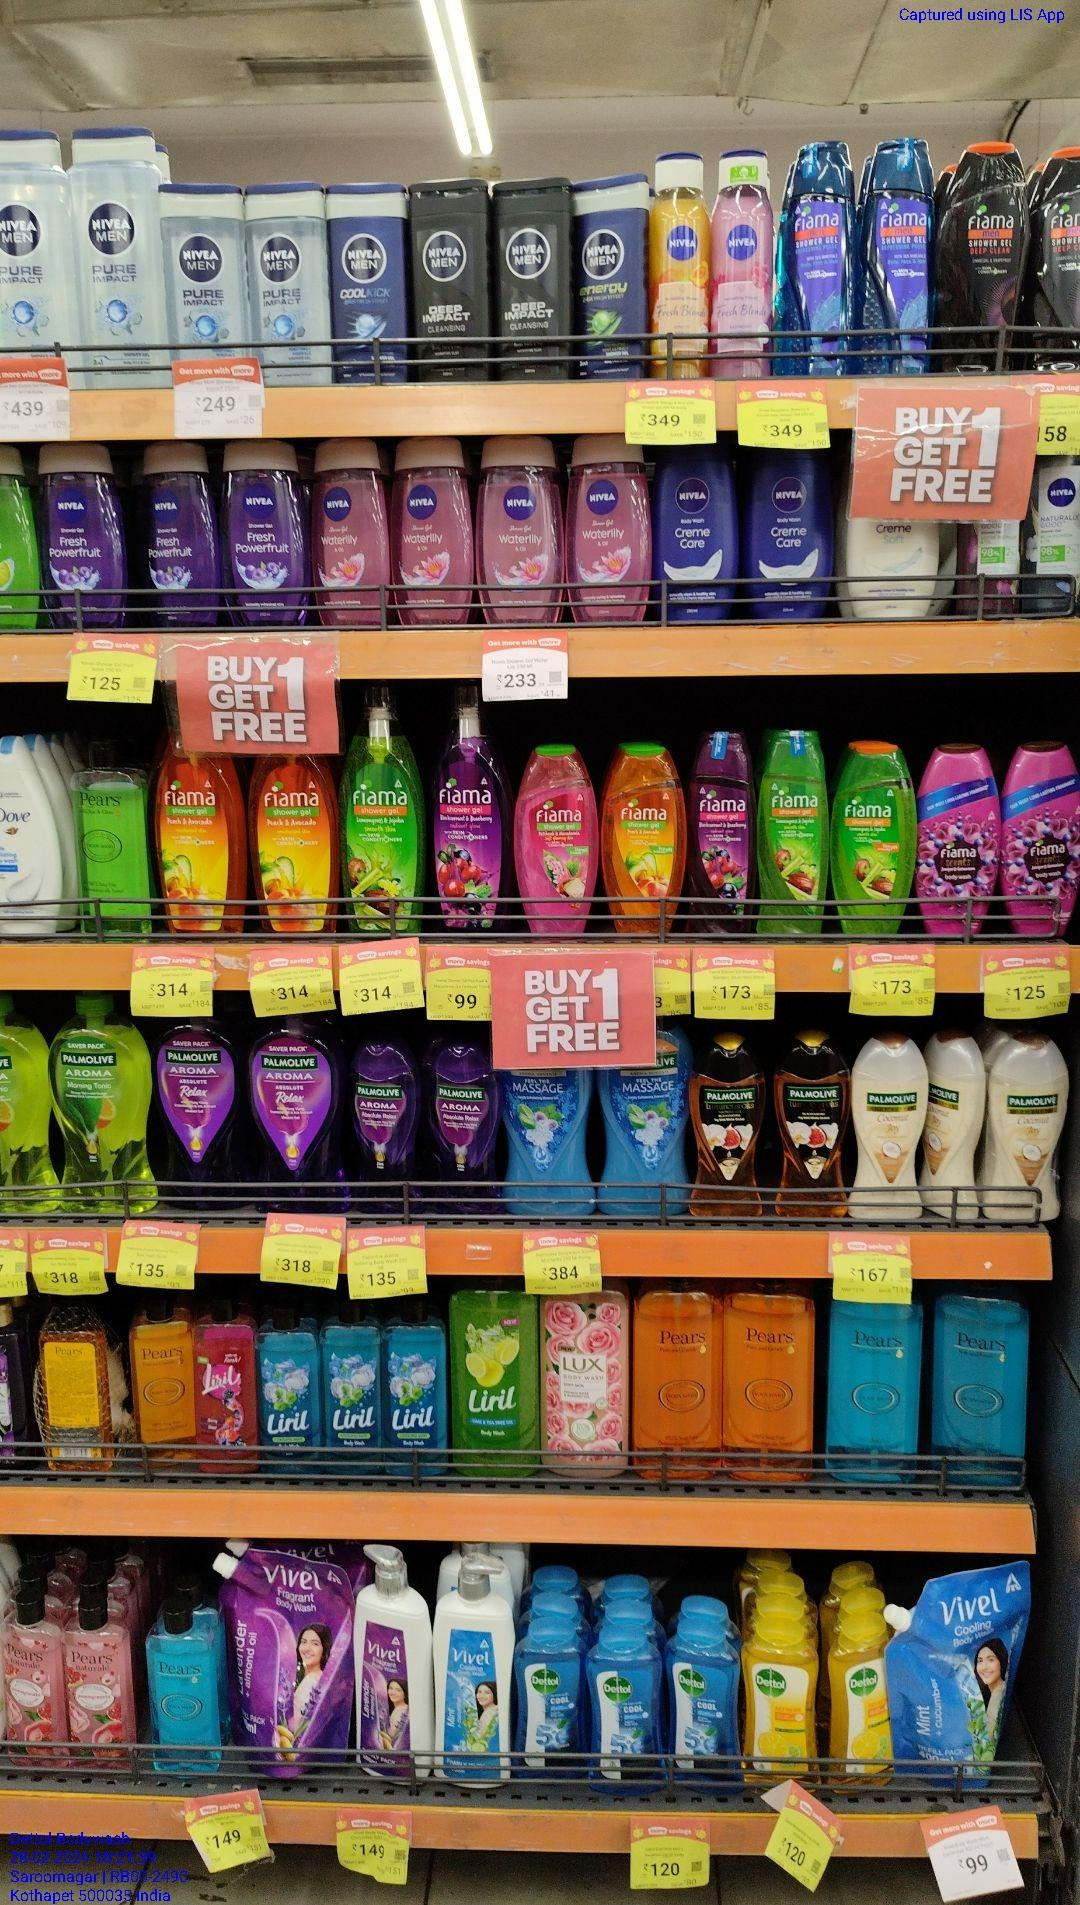Dettol_Bodywash_Cool: (672, 1615, 744, 1796)
Dettol_Bodywash_Refresh: (833, 1616, 899, 1803), (746, 1613, 817, 1790)
Fiama_Shower_Gel_Lemongrass_and_Jojoba_250ML: (826, 734, 910, 933), (762, 727, 823, 939)
Fiama_Shower_Gel_Patchouli_and_Macadamia_250ML: (513, 739, 598, 945)
Fiama_Shower_Gel_Peach_and_Avocado_250ML: (603, 744, 685, 937)
Liril_Cooling_Mint_Body_Wash_250ML: (384, 1298, 442, 1477), (261, 1310, 322, 1477), (325, 1298, 381, 1476)
Nivea_Creme_Care_Body_Wash_250ML: (657, 442, 744, 632), (747, 445, 823, 620)
Nivea_Shower_Gel_Fresh_Powerfruit_250ML: (221, 432, 308, 623), (130, 440, 216, 628), (37, 442, 122, 625)
Nivea_Shower_Gel_Waterlily_and_Oil_250ML: (566, 433, 649, 620), (312, 440, 394, 629), (482, 434, 558, 624), (398, 438, 473, 629)
Palmolive_Aroma_Relax_250ML: (344, 1034, 422, 1217), (428, 1036, 507, 1213)
Palmolive_Coconut_Joy_Exfoliating_Body_Wash_250ML: (983, 1024, 1064, 1219), (852, 1032, 928, 1225), (927, 1030, 978, 1219)
Palmolive_Luminous_Oils_With_White_Orchid_Shower_Gel_250ML: (776, 1024, 848, 1222), (694, 1036, 768, 1222)
Pears_Pure_Glycerin_and_Mint_Extracts_Body_Wash_250ML: (147, 1603, 220, 1785), (594, 1626, 664, 1799), (518, 1617, 588, 1781)
